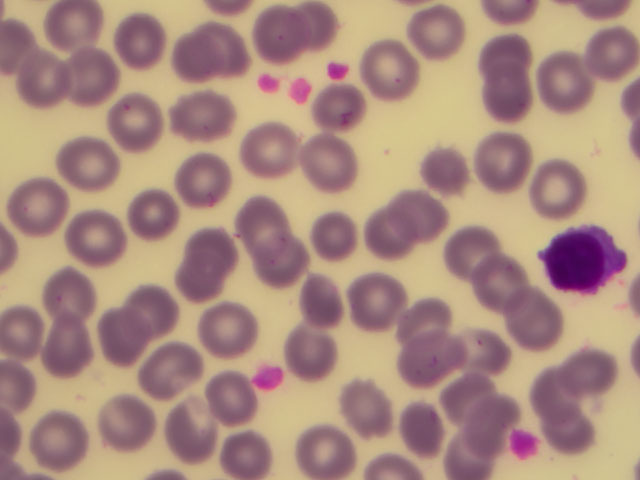Platelets: (248, 361, 286, 395), (506, 426, 540, 464), (287, 72, 317, 106), (326, 58, 355, 84), (256, 71, 282, 95)
RBC: (60, 45, 124, 107), (9, 46, 73, 108), (116, 11, 180, 73), (159, 25, 223, 87), (171, 81, 235, 143), (108, 88, 172, 150), (52, 134, 116, 196), (13, 179, 77, 241), (61, 208, 125, 270), (126, 188, 190, 250), (166, 155, 230, 217), (176, 223, 240, 285), (130, 273, 194, 335), (90, 304, 154, 366), (35, 319, 99, 381), (35, 255, 99, 317), (1, 304, 65, 366), (95, 391, 159, 453), (26, 410, 90, 472), (140, 341, 204, 403), (196, 300, 260, 362), (253, 232, 317, 294), (239, 190, 303, 252), (304, 214, 368, 276), (300, 130, 364, 192), (244, 118, 308, 180), (305, 80, 369, 142), (365, 38, 429, 100), (263, 7, 327, 69), (408, 4, 472, 66), (465, 24, 529, 86), (479, 75, 543, 137), (529, 54, 593, 116), (576, 26, 640, 88), (518, 158, 582, 220), (474, 133, 538, 195), (414, 138, 478, 200), (401, 183, 465, 245), (360, 209, 424, 271), (352, 276, 416, 338), (302, 276, 366, 338), (286, 316, 350, 378), (334, 374, 398, 436), (294, 418, 358, 480), (230, 418, 294, 480), (204, 363, 268, 425), (170, 407, 234, 469), (384, 394, 448, 456), (402, 330, 466, 392), (397, 285, 461, 347), (467, 317, 531, 379), (453, 387, 517, 449), (522, 364, 586, 426), (560, 341, 624, 403), (500, 286, 564, 348), (469, 252, 533, 314), (450, 225, 514, 287), (543, 403, 607, 465), (48, 1, 112, 62), (44, 1, 108, 62)
WBC: (539, 218, 631, 295)
